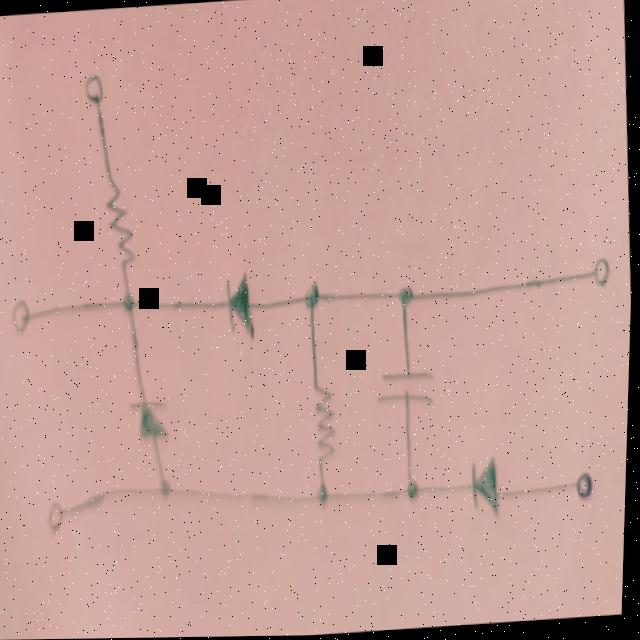capacitor: (382, 365, 438, 426)
diode: (224, 271, 258, 343), (472, 458, 506, 524), (132, 398, 173, 450)
junction: (301, 279, 326, 320), (398, 281, 419, 318), (406, 474, 427, 509), (120, 288, 142, 320), (315, 482, 336, 511), (160, 475, 179, 504)
resistor: (105, 180, 141, 278), (314, 385, 341, 472)
terminal: (81, 72, 109, 113), (50, 497, 73, 542), (13, 297, 36, 342), (574, 472, 599, 509), (589, 256, 613, 294)
